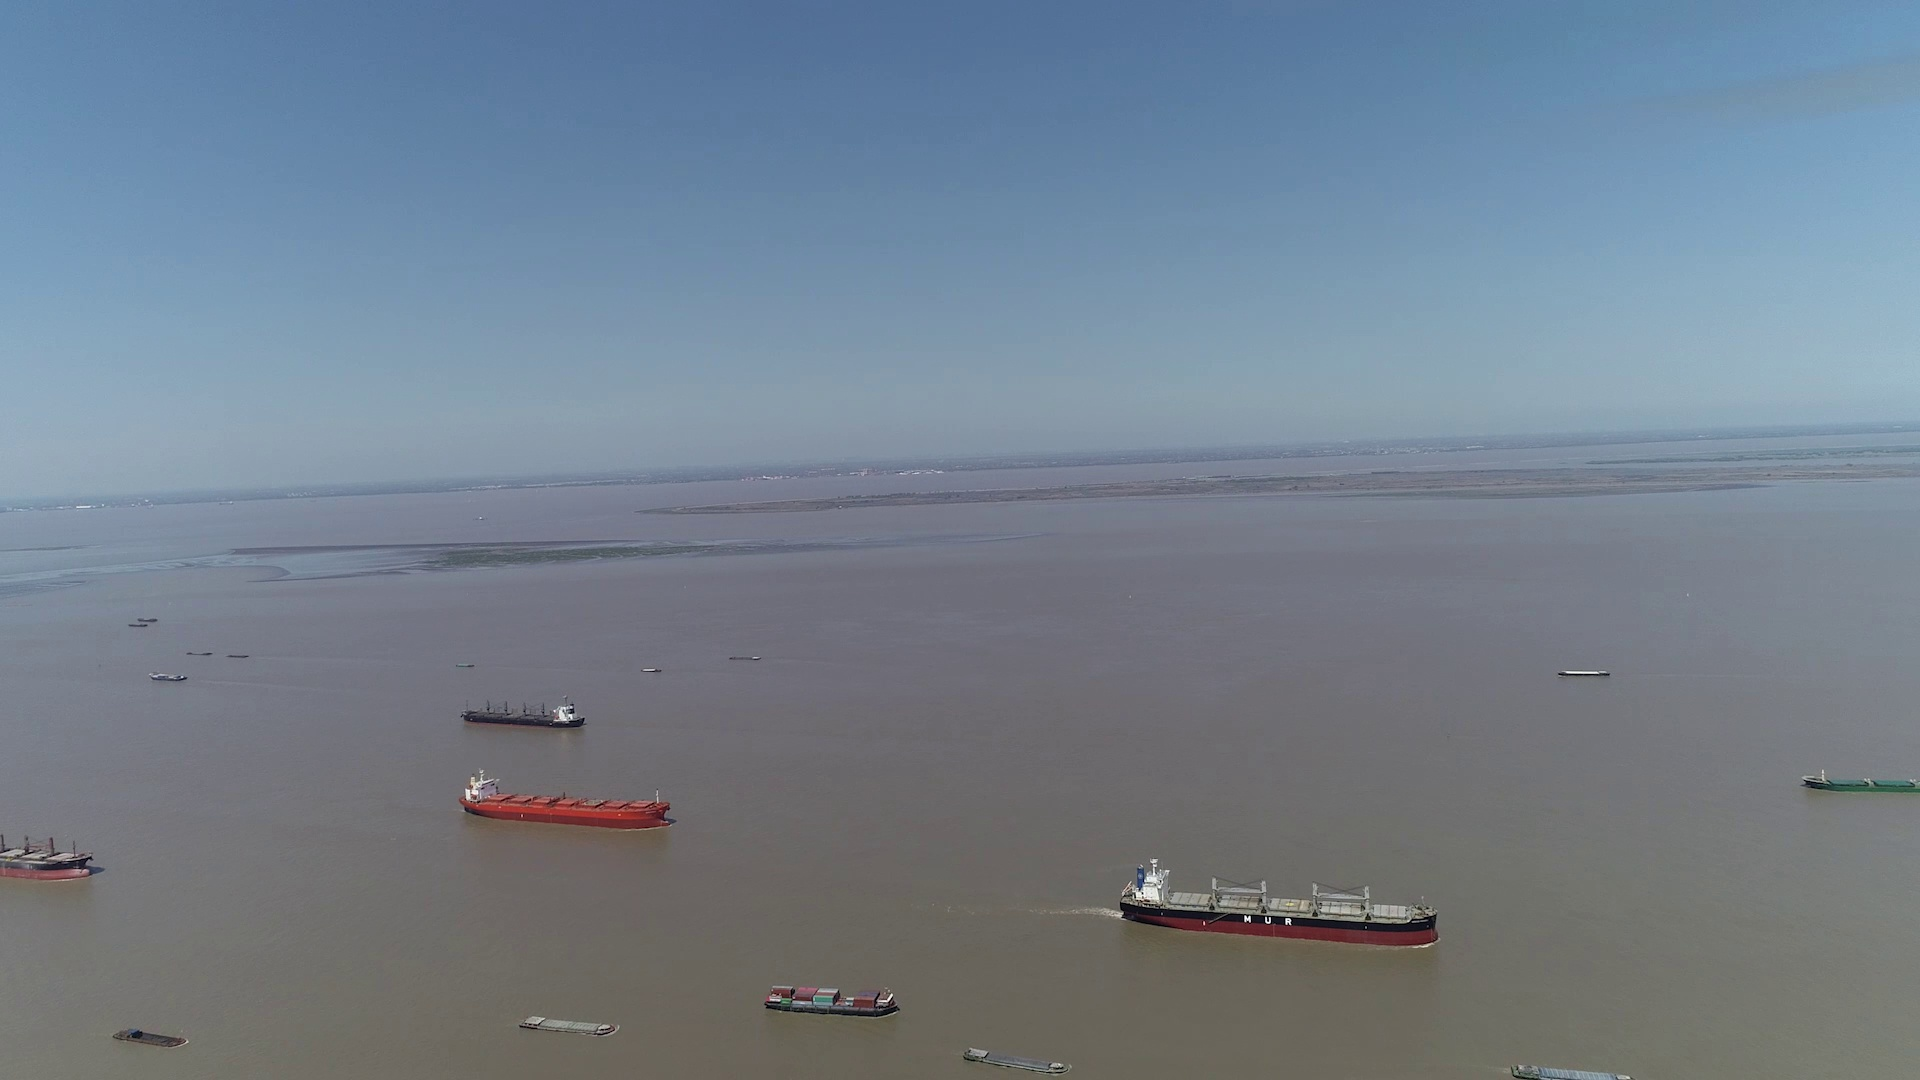ship: (1120, 856, 1439, 948), (458, 766, 669, 829), (0, 824, 98, 882), (764, 984, 899, 1018), (462, 698, 583, 727), (1801, 767, 1917, 793), (961, 1046, 1065, 1073), (1511, 1062, 1633, 1080), (520, 1014, 618, 1036), (113, 1027, 191, 1047), (1557, 669, 1610, 676), (150, 673, 189, 682)
